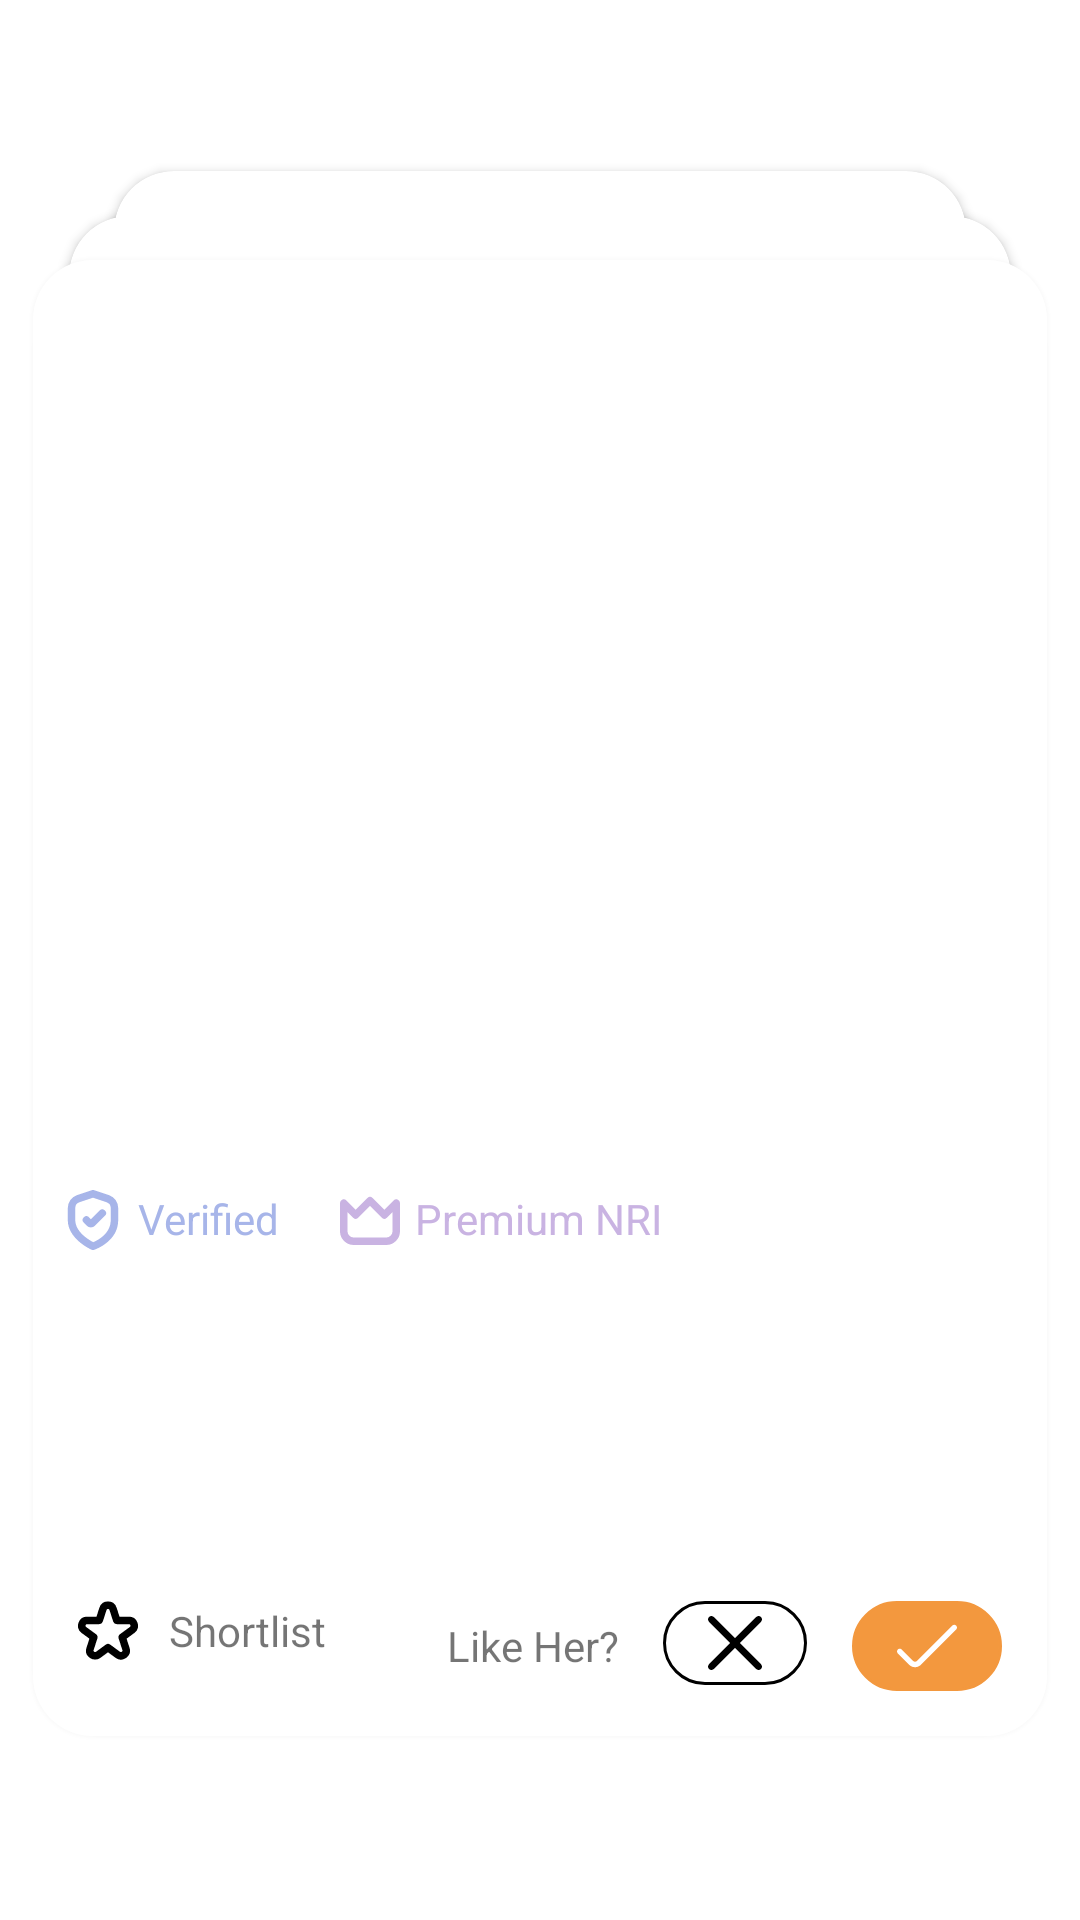

Named icons in this screenshot (1080x1920) and their bounding boxes, bbox(x1, y1, x2, y2):
close: bbox(663, 1601, 807, 1685)
done: bbox(852, 1601, 1002, 1691)
